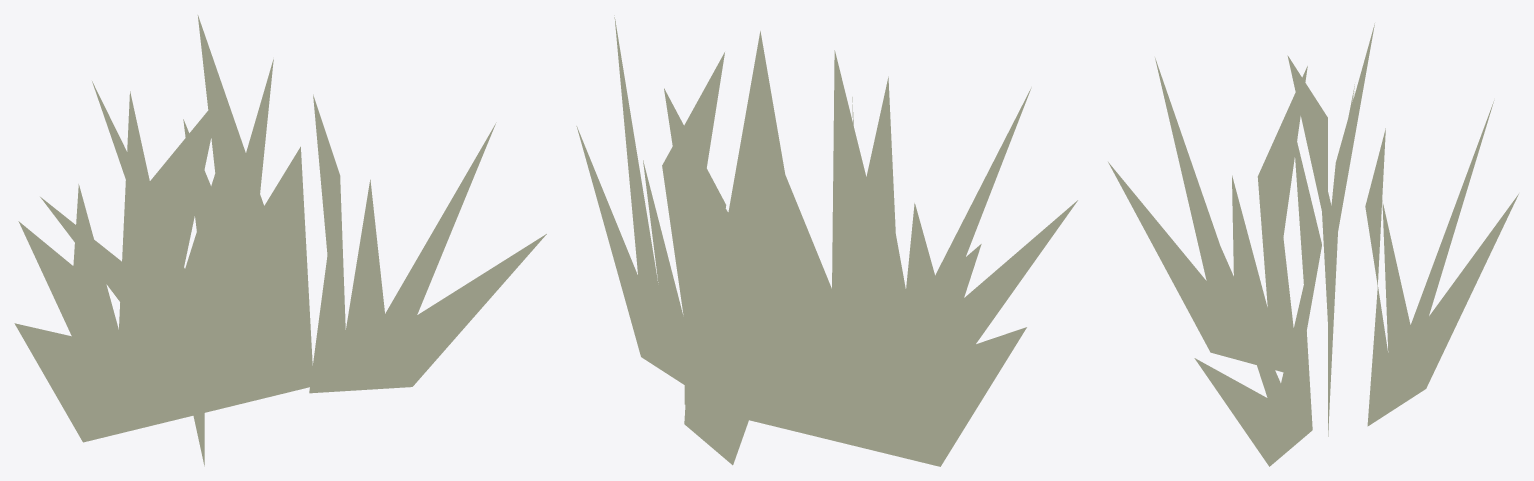
File: SM_Grass01.fbx
3 renders of one model, left to right at view 1: azimuth 30°, elevation 25°; view 2: azimuth 150°, elevation 25°; view 3: azimuth 270°, elevation 25°, orthographic. The views are drawn at different scales.
Parts seen in each view (by area): view 1: SM_grass_01_LOD0; view 2: SM_grass_01_LOD0; view 3: SM_grass_01_LOD0.
Part boxes in pixels (bbox=[...]): SM_grass_01_LOD0: bbox=[14, 15, 546, 466]; SM_grass_01_LOD0: bbox=[576, 15, 1077, 466]; SM_grass_01_LOD0: bbox=[1108, 23, 1518, 466].
Bounding box in the file's own units: 85.96 × 65.93 × 66.26.
